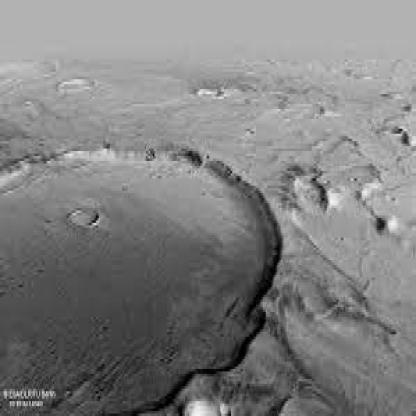craters: (2, 136, 286, 409), (278, 156, 340, 233), (372, 206, 404, 252), (64, 208, 103, 233), (356, 183, 373, 201)
